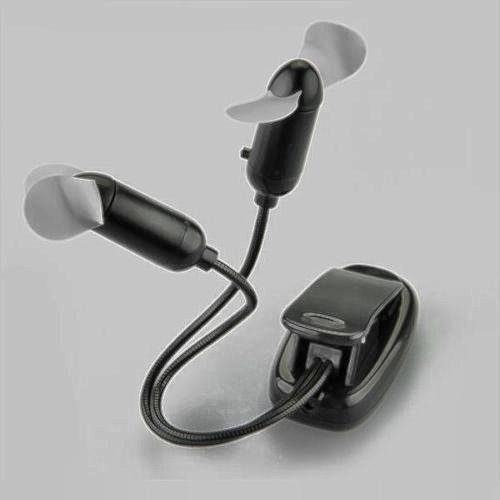fan: (49, 54, 409, 433)
